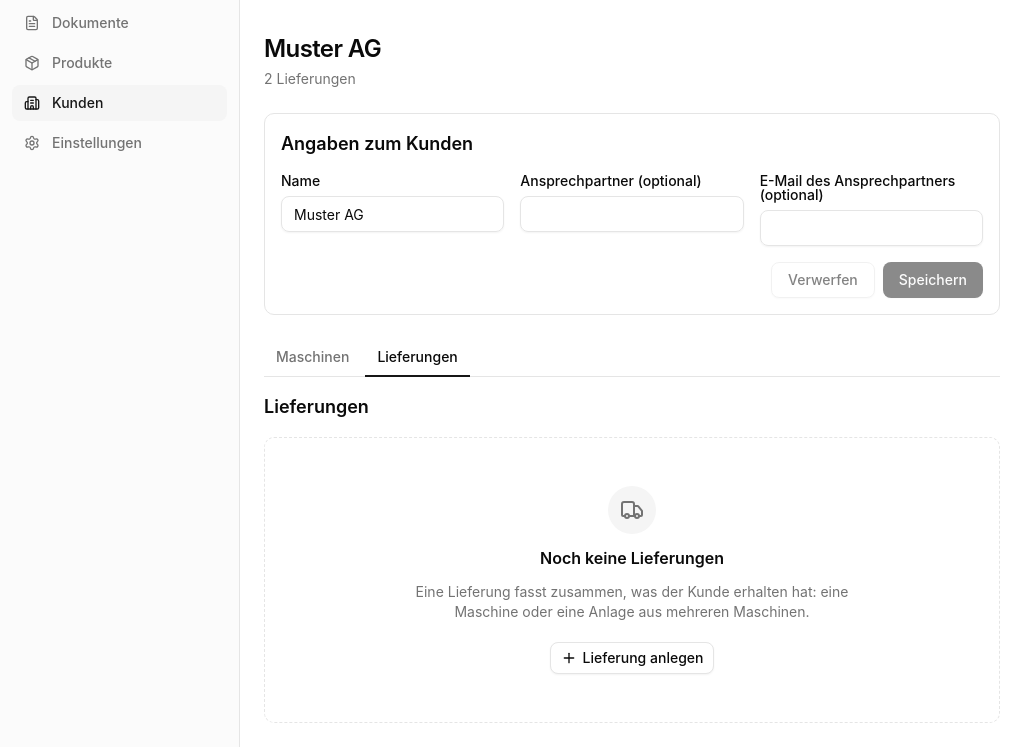
Scenario: CustomerDeliveries › asks for a name and shows a failed save inside the dialog
(page scrolled)
Click the button "Lieferung anlegen": (632, 658) [550,642,714,674]
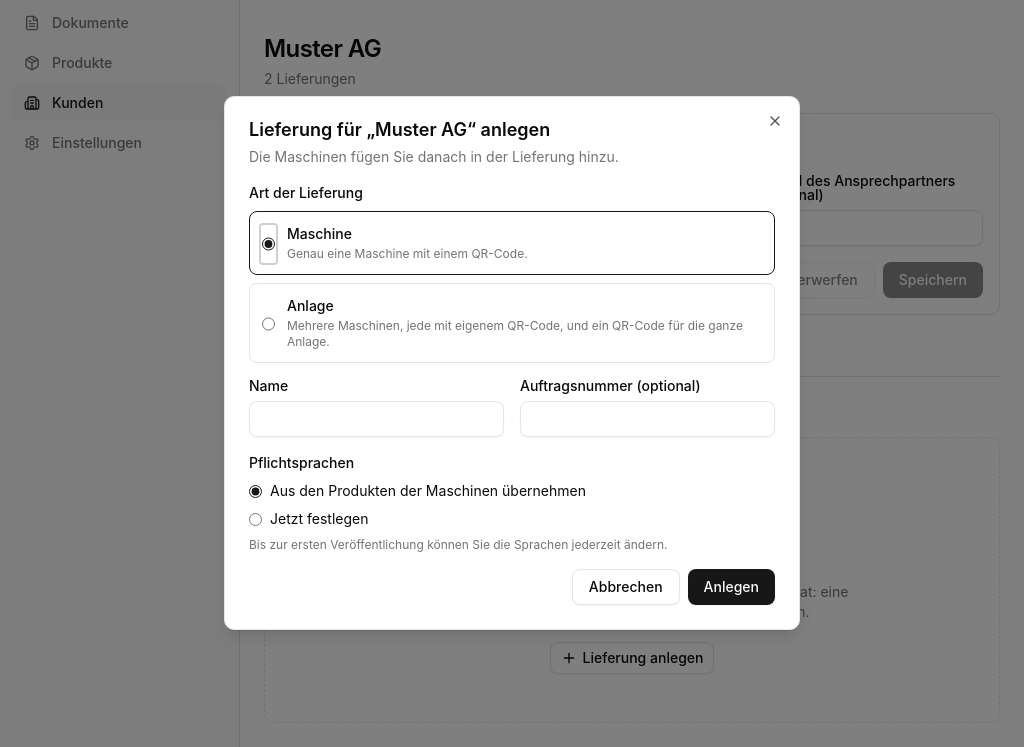
Click the button "Anlegen": (731, 587) [688,569,775,605]
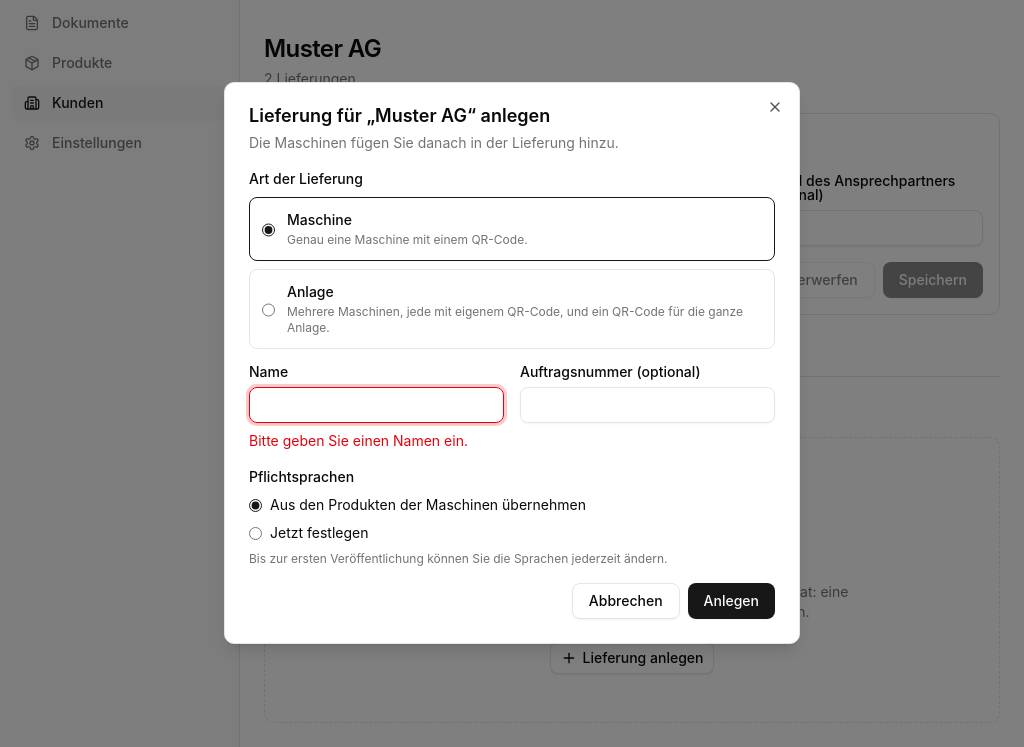
Check: the text "Bitte geben Sie einen Namen ein." is shown, box [249,431,504,451]
In the field labelled "Name": (376, 405) [249,387,504,423], type "Anlage"
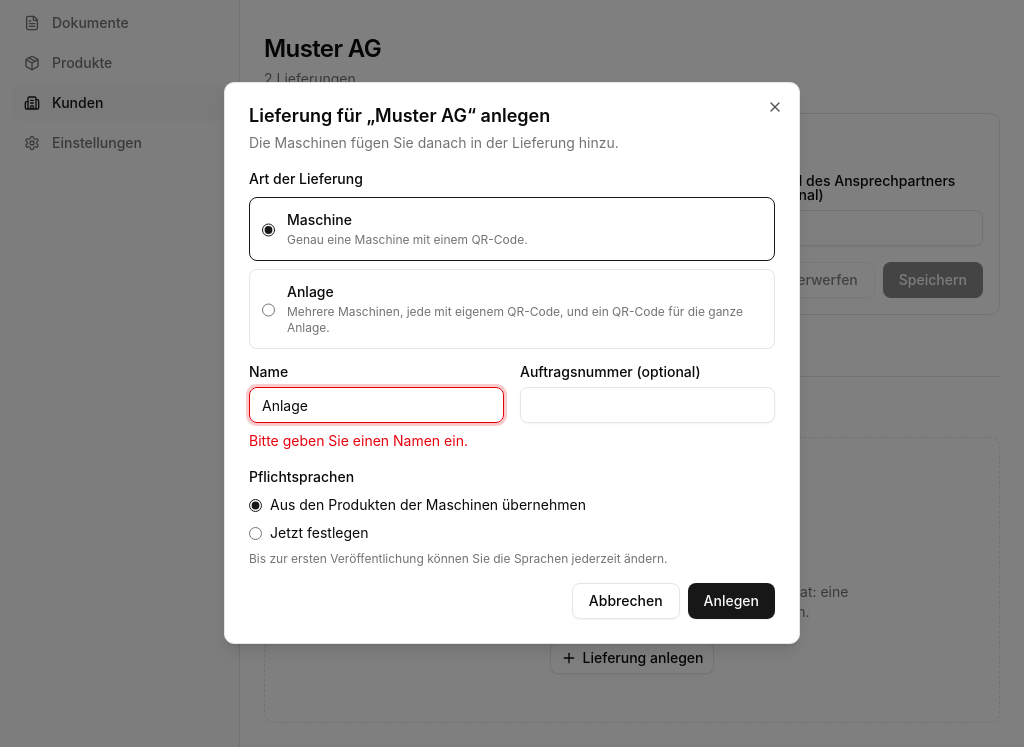
Click the button "Anlegen": (731, 601) [688,583,775,619]
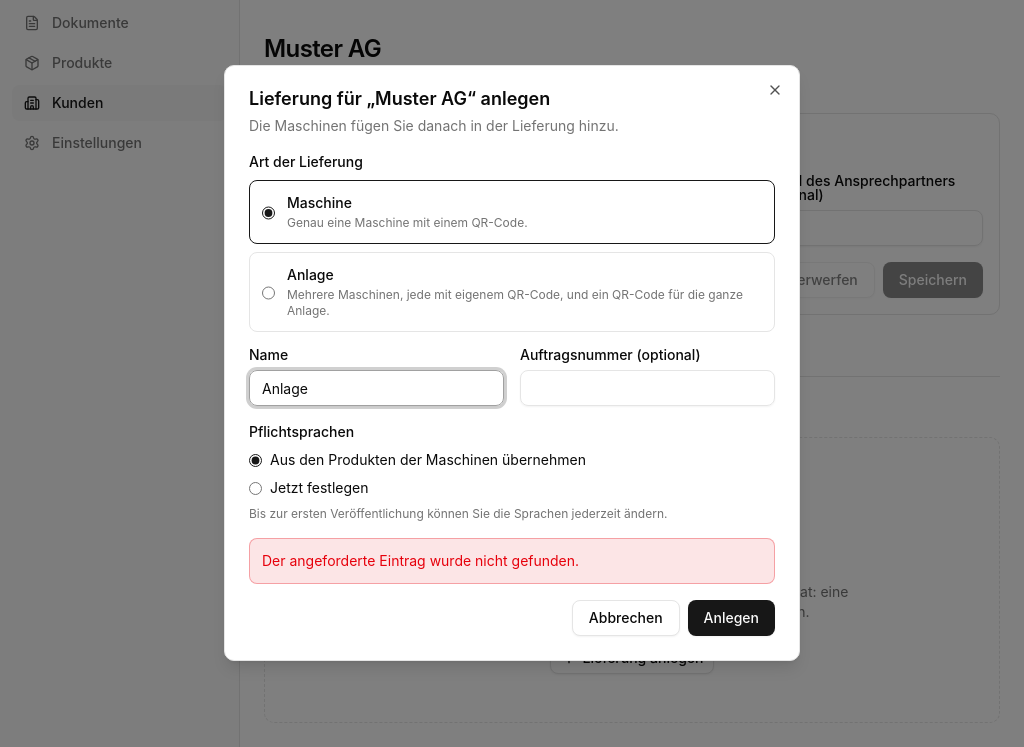
Check: the message reads "Der angeforderte Eintrag wurde nicht gefunden.", box [262,552,579,569]
